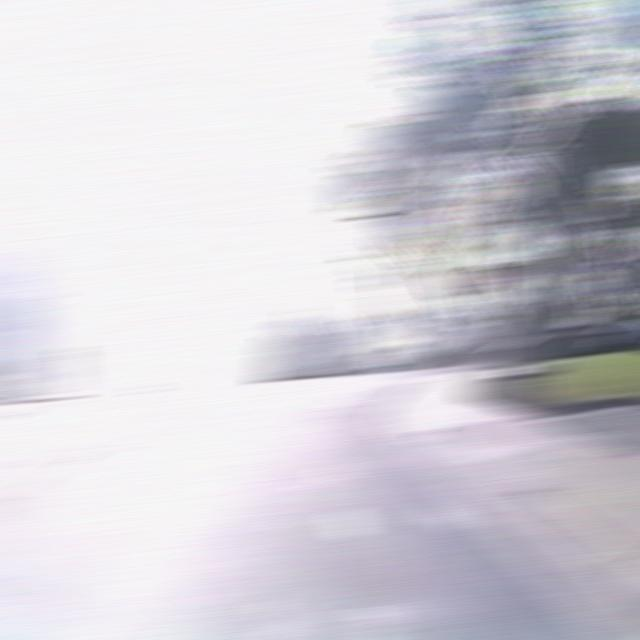stop: (466, 262, 504, 293)
